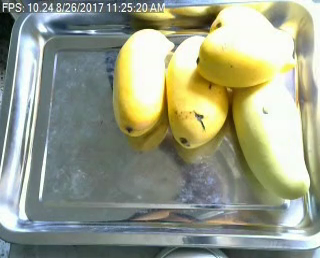Mango: (233, 75, 310, 200), (165, 35, 227, 150), (113, 26, 170, 137), (209, 4, 297, 72), (197, 28, 290, 85)
